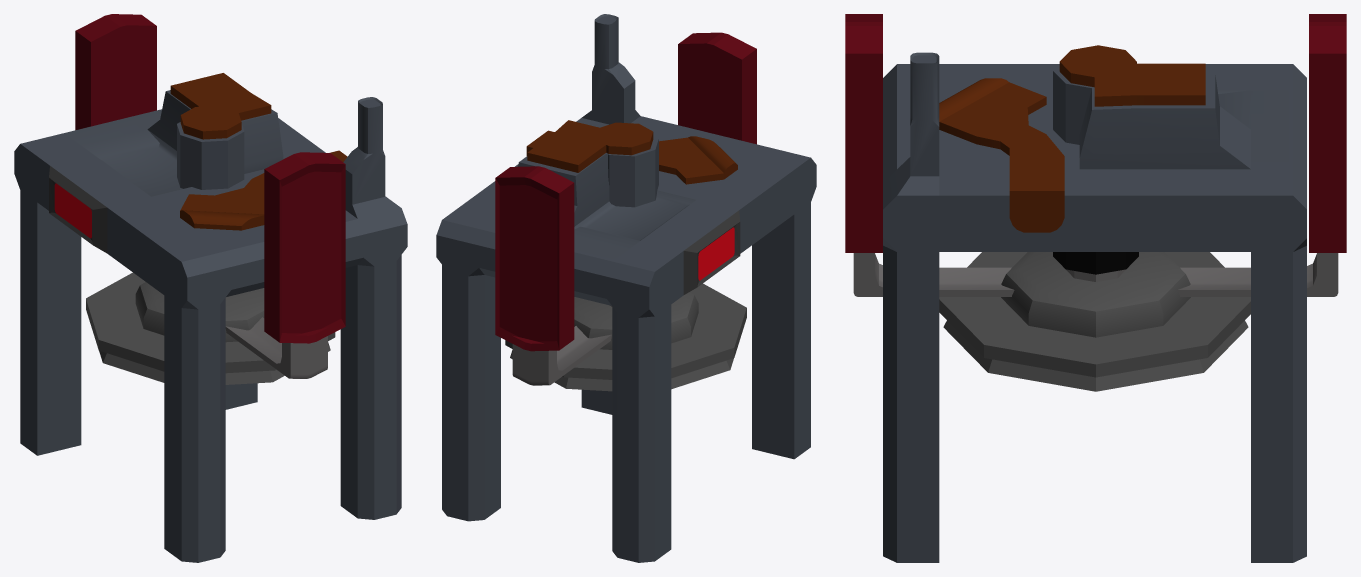
The model's file is HydraulicPress.fbx.
The picture shows the model from 3 angles, left to right: view 1: azimuth 30°, elevation 25°; view 2: azimuth 150°, elevation 25°; view 3: azimuth 270°, elevation 25°; orthographic projection. The views are drawn at different scales.
Parts seen in each view (by area): view 1: Body, ArmHolders, Press, Detail2, Detail, Arms, ScreenHolder, Screen; view 2: Body, ArmHolders, Press, Detail2, Detail, Arms, ScreenHolder, Screen; view 3: Body, Press, ArmHolders, Detail, Arms, Detail2, PressHolder.
Part boxes in pixels (bbox=[...]): Body: bbox=[14, 90, 407, 562]; ArmHolders: bbox=[75, 14, 345, 343]; Press: bbox=[86, 272, 335, 384]; Detail2: bbox=[170, 73, 271, 139]; Detail: bbox=[180, 150, 347, 230]; Arms: bbox=[225, 317, 327, 378]; ScreenHolder: bbox=[49, 166, 107, 253]; Screen: bbox=[54, 183, 91, 238]; Body: bbox=[436, 14, 816, 562]; ArmHolders: bbox=[495, 32, 756, 351]; Press: bbox=[505, 283, 746, 391]; Detail2: bbox=[527, 120, 653, 172]; Detail: bbox=[526, 130, 737, 184]; Arms: bbox=[512, 305, 612, 385]; ScreenHolder: bbox=[683, 210, 740, 294]; Screen: bbox=[698, 227, 734, 280]; Body: bbox=[883, 52, 1306, 562]; Press: bbox=[939, 252, 1250, 391]; ArmHolders: bbox=[845, 14, 1346, 252]; Detail: bbox=[939, 78, 1064, 232]; Arms: bbox=[853, 253, 1338, 296]; Detail2: bbox=[1059, 45, 1205, 106]; PressHolder: bbox=[1053, 252, 1138, 274].
Size of the model in its own units: 1060 by 1745 by 1607.
